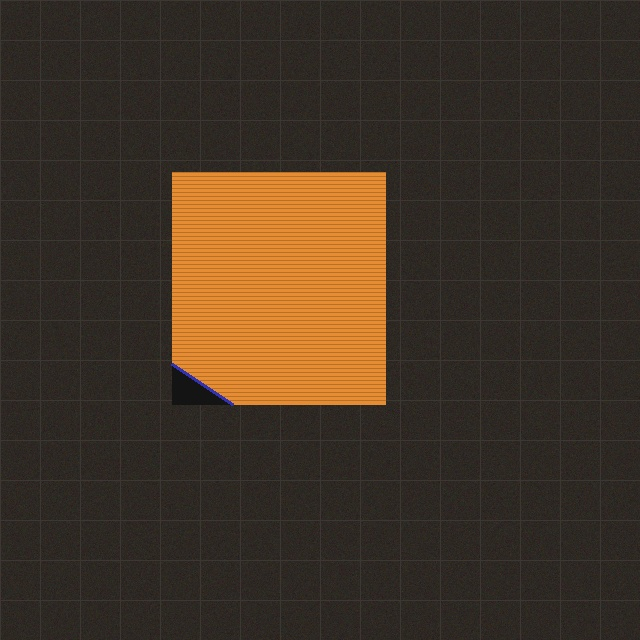warping: (162, 344, 252, 414)
